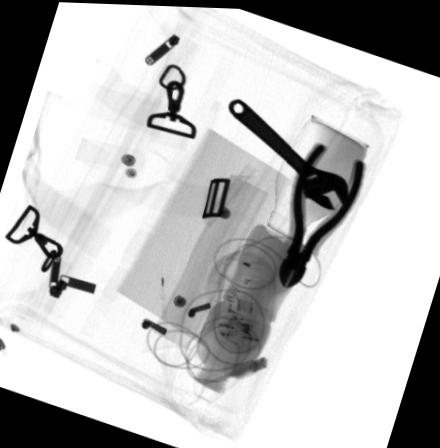Pliers: (276, 140, 365, 287)
Wrench: (225, 95, 347, 210)
